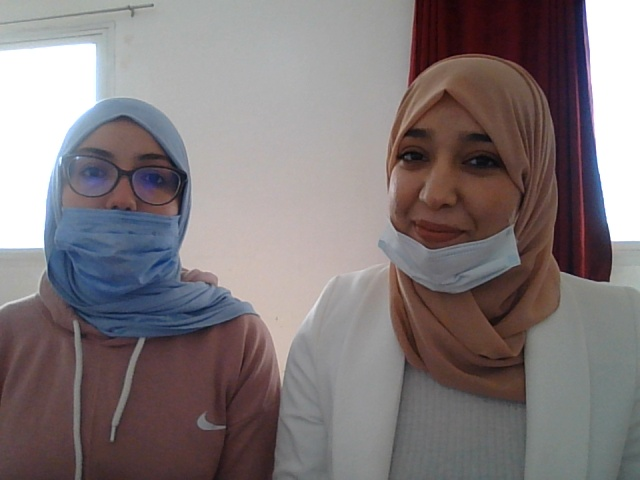mask_weared_incorrect: (366, 71, 552, 294), (42, 109, 205, 304)
